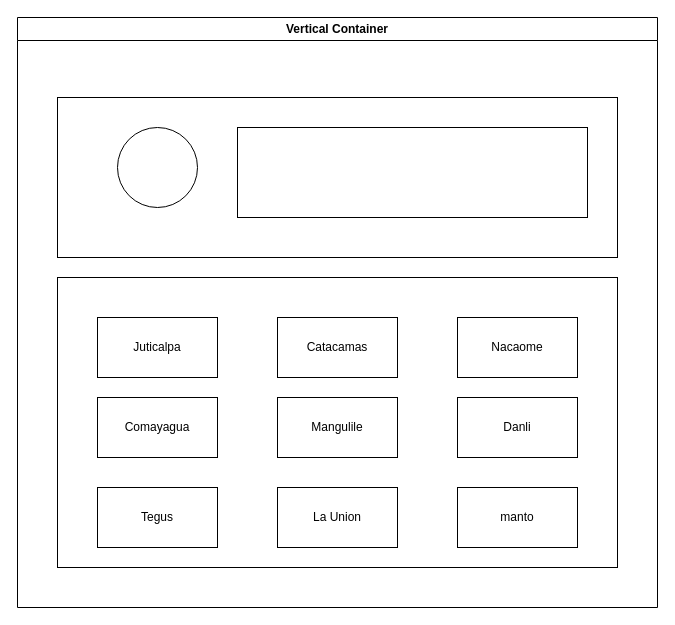
Image size: 675x625. Some labels were removed from this diagram. Each missing label, with the box of its shape:
Grafica: (116, 126, 198, 208)
Pedidos activos Cocineros Disponibles Pedidos entre cocineros: (236, 126, 588, 218)
Zonas: (56, 276, 618, 568)
